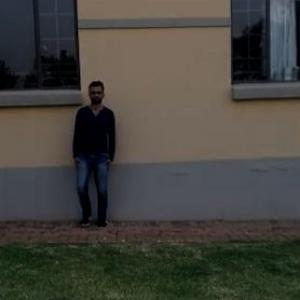follow: (70, 79, 115, 228)
